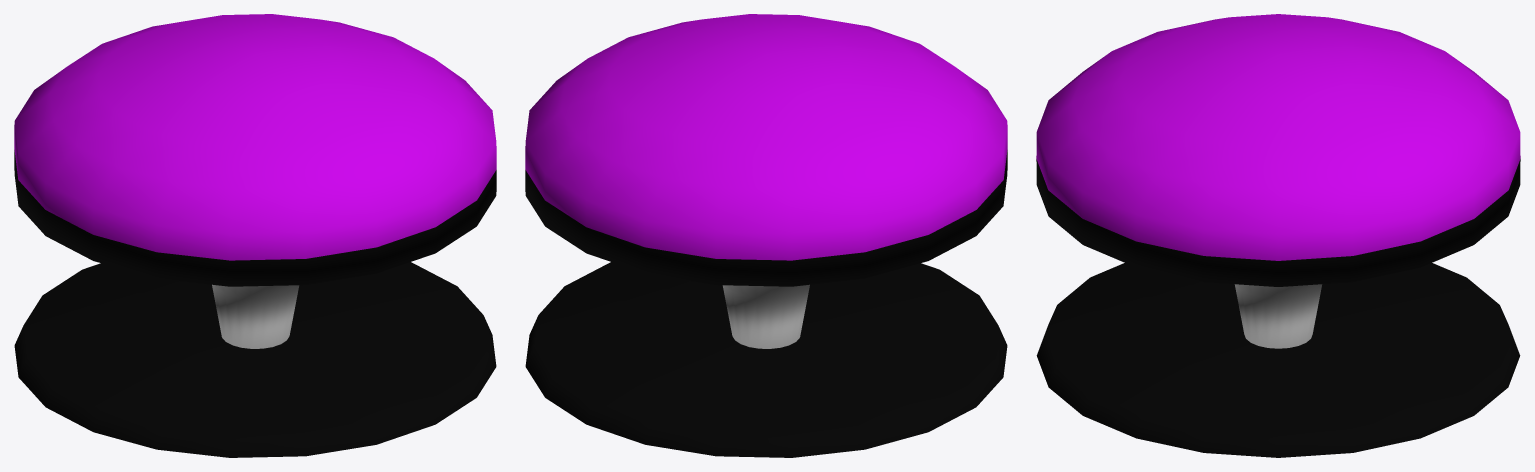
File: SM_Bumper.fbx
3 renders of one model, left to right at view 1: azimuth 30°, elevation 25°; view 2: azimuth 150°, elevation 25°; view 3: azimuth 270°, elevation 25°, orthographic.
Parts seen in each view (by area): view 1: pCylinder1; view 2: pCylinder1; view 3: pCylinder1.
Boxes of the visible parts, x1,y1,x2,y2 form: pCylinder1: (14,14,496,457); pCylinder1: (525,14,1007,457); pCylinder1: (1036,14,1520,457).
Size of the model in its own units: 2 by 1.38 by 2.
